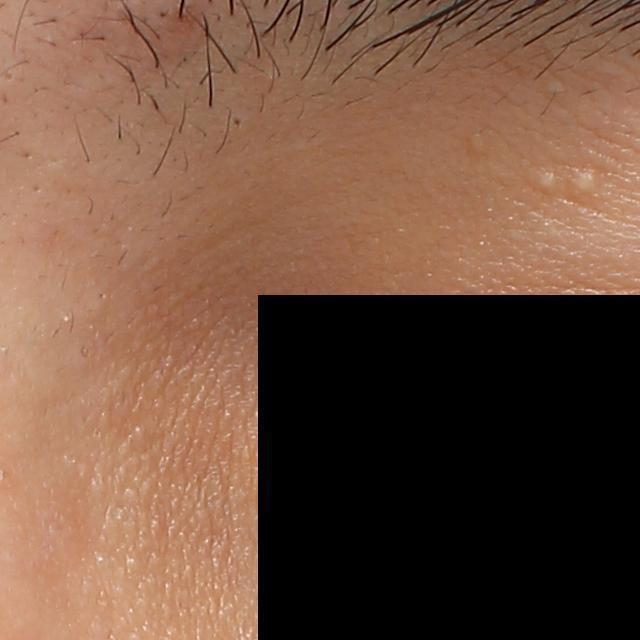other: (574, 169, 598, 197), (536, 172, 557, 193)
